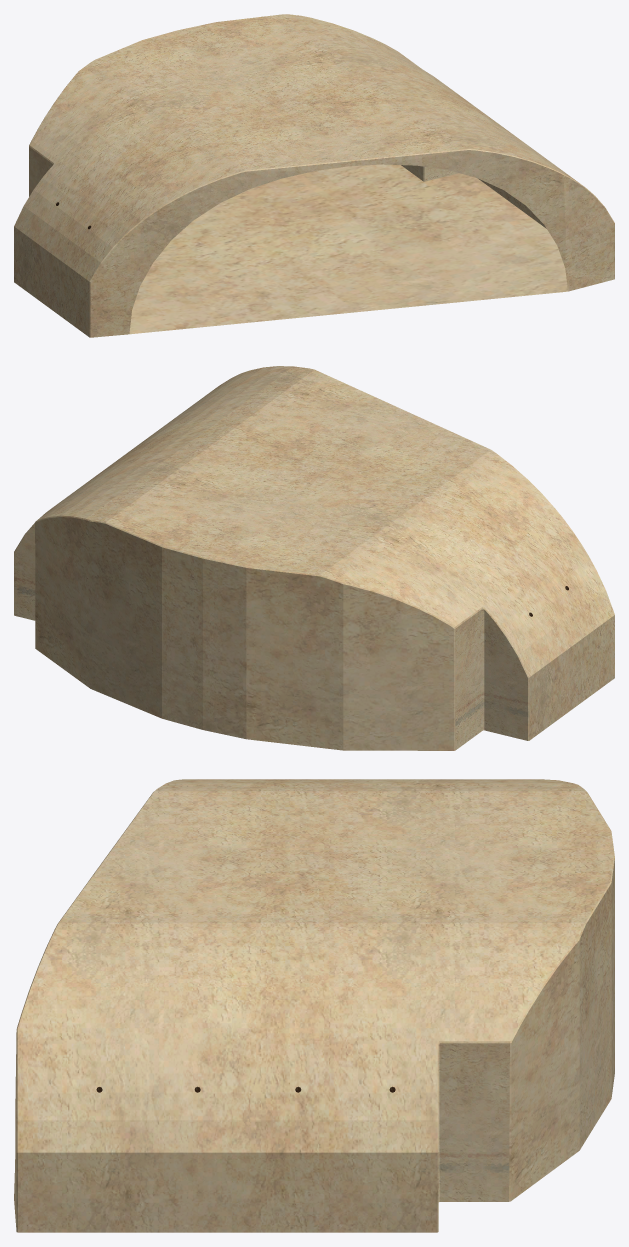
Rendered from thm_tato_cantina_r8_stage_mesh_r8.fbx.
The picture shows the model from 3 angles, top to bottom: view 1: azimuth 30°, elevation 25°; view 2: azimuth 150°, elevation 25°; view 3: azimuth 270°, elevation 25°; orthographic projection. The views are drawn at different scales.
Visible parts, largest first — view 1: mesh_node; view 2: mesh_node; view 3: mesh_node.
Boxes of the visible parts, x1,y1,x2,y2 form: mesh_node: [14, 14, 614, 337]; mesh_node: [14, 366, 614, 750]; mesh_node: [14, 779, 614, 1232].
Size of the model in its own units: 13 by 4.15 by 10.42.
